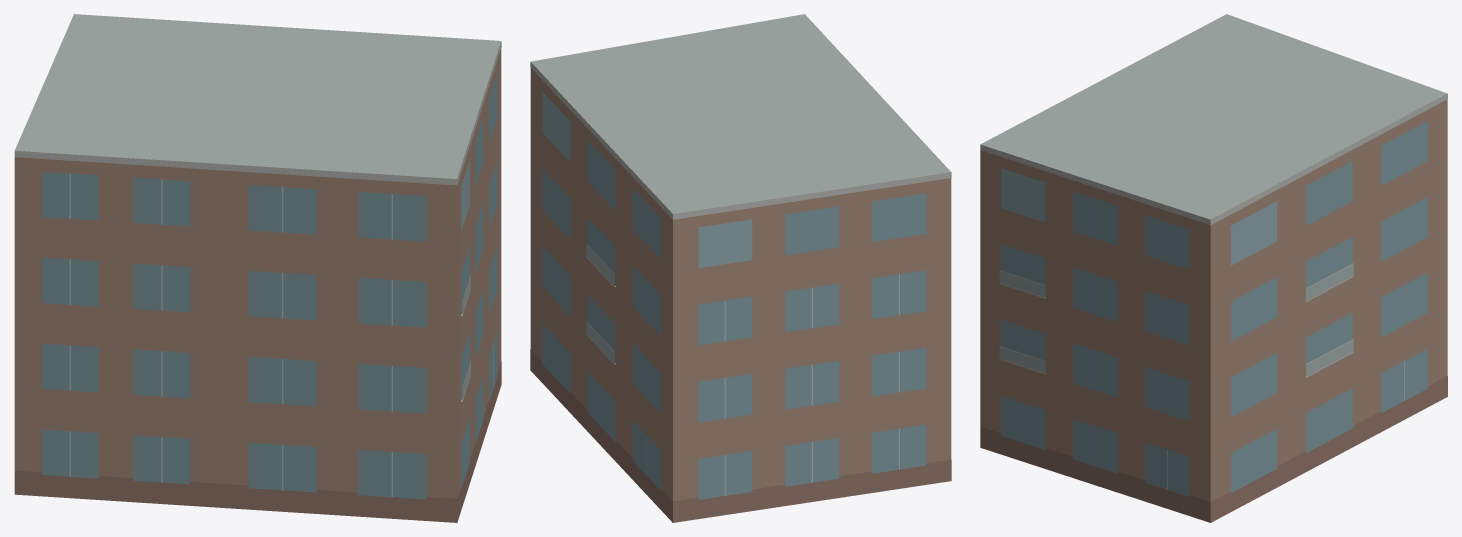
The model's file is survey-upis-32854895.glb.
3 renders of one model, left to right at view 1: azimuth 30°, elevation 25°; view 2: azimuth 150°, elevation 25°; view 3: azimuth 270°, elevation 25°, orthographic. The views are drawn at different scales.
Visible parts, largest first — view 1: survey-upis-32854895.tmp; view 2: survey-upis-32854895.tmp; view 3: survey-upis-32854895.tmp.
Part boxes in pixels (bbox=[...]): survey-upis-32854895.tmp: bbox=[14, 14, 501, 522]; survey-upis-32854895.tmp: bbox=[530, 14, 951, 522]; survey-upis-32854895.tmp: bbox=[980, 14, 1447, 522].
Bounding box in the file's own units: 19.13 × 13.15 × 18.38.
